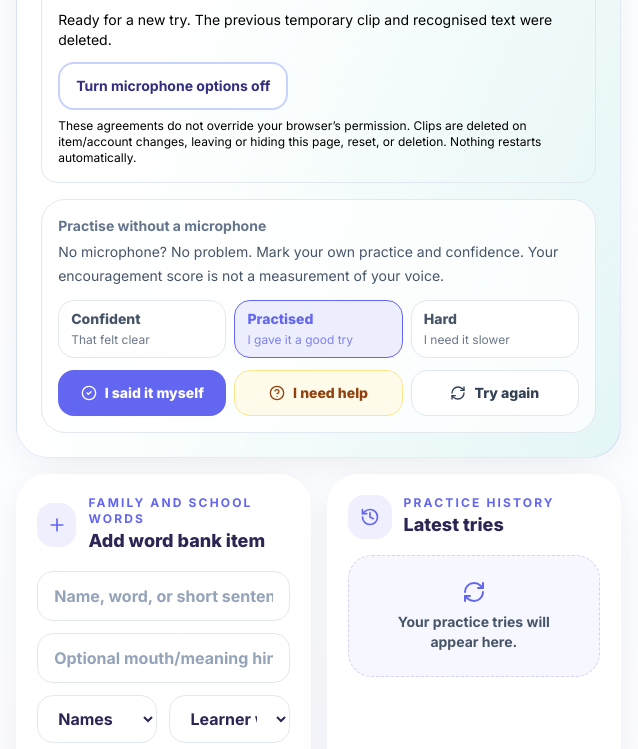
Test: score sources are named honestly without removing numeric scores
The width and height of the screenshot is (638, 749).
(page scrolled)
Click the button "I said it myself" at x=142, y=394, box [58,370,226,416]
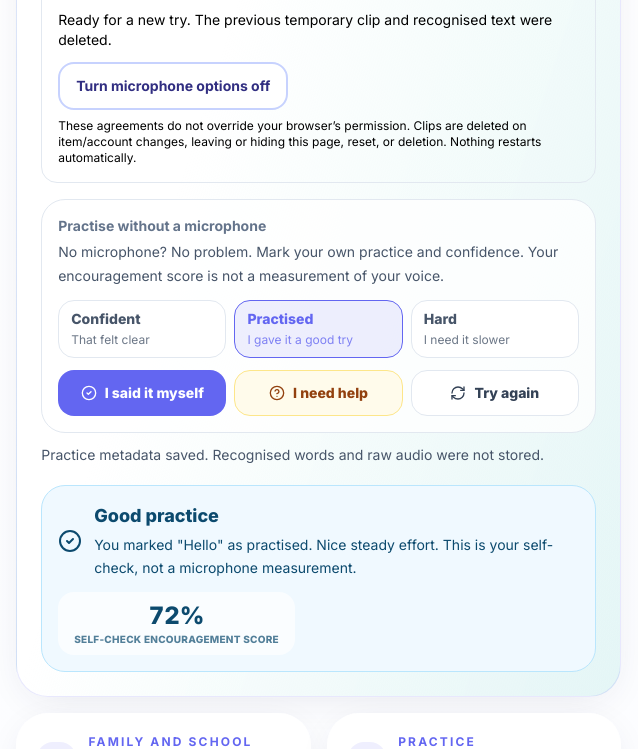
expect the text "Self-check encouragement score" is shown: met, box [74,632,279,647]
